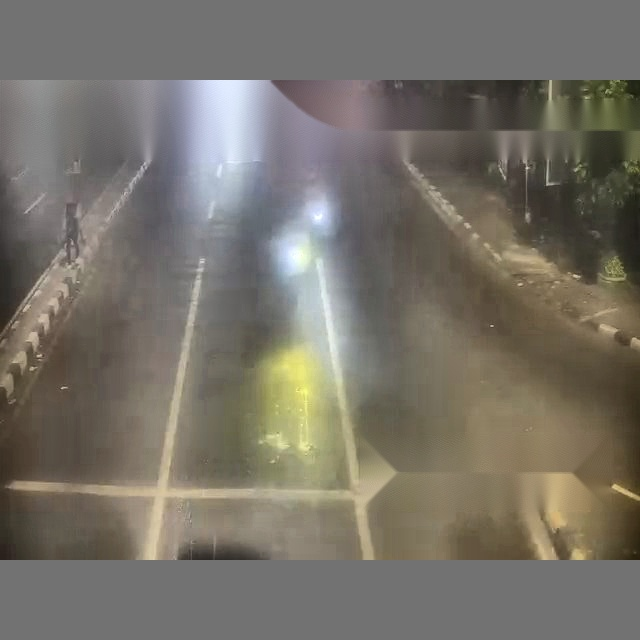Truk: (186, 60, 639, 556)
